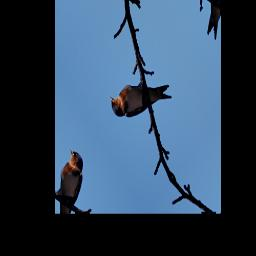Swallow: (107, 49, 175, 147)
